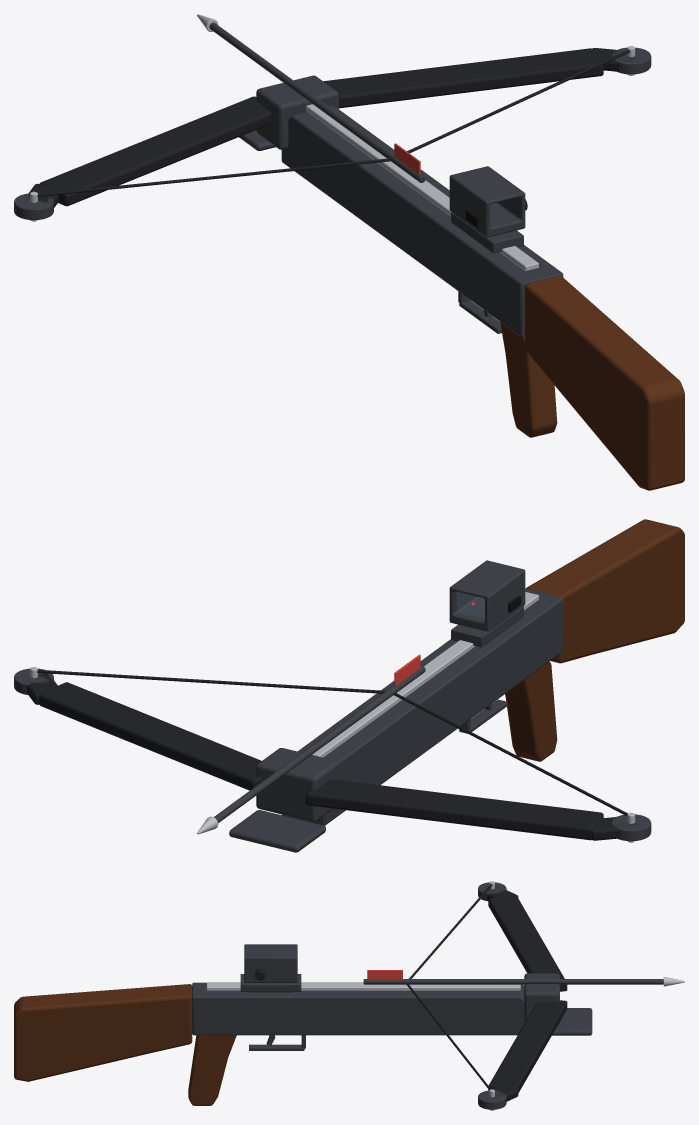
The model's file is quill.glb.
3 renders of one model, top to bottom at view 1: azimuth 30°, elevation 25°; view 2: azimuth 150°, elevation 25°; view 3: azimuth 270°, elevation 25°, orthographic. The views are drawn at different scales.
Visible parts, largest first — view 1: stock, body, limb1, limb-1, optic_hood, grip, riser, flight_rail, bolt_shaft, string_l, optic_base, string_r (+2 smaller); view 2: body, stock, limb-1, limb1, optic_hood, grip, riser, foot_stirrup, flight_rail, bolt_shaft, string_r, optic_base (+5 smaller); view 3: body, stock, limb1, limb-1, grip, optic_hood, flight_rail, bolt_shaft, riser, foot_stirrup, optic_base, cam1 (+2 smaller).
Part boxes in pixels (left/top/right/bottom): stock: left=525, top=276, right=684, bottom=490; body: left=281, top=105, right=563, bottom=336; limb1: left=323, top=48, right=603, bottom=108; limb-1: left=39, top=96, right=271, bottom=206; optic_hood: left=449, top=166, right=525, bottom=237; grip: left=500, top=322, right=557, bottom=437; riser: left=256, top=75, right=338, bottom=149; flight_rail: left=306, top=104, right=538, bottom=271; bolt_shaft: left=209, top=22, right=425, bottom=182; string_l: left=37, top=158, right=390, bottom=196; optic_base: left=451, top=212, right=523, bottom=253; string_r: left=407, top=49, right=629, bottom=153; body: left=281, top=589, right=563, bottom=825; stock: left=525, top=519, right=684, bottom=663; limb-1: left=305, top=779, right=603, bottom=840; limb1: left=39, top=682, right=261, bottom=790; optic_hood: left=449, top=560, right=525, bottom=631; grip: left=505, top=661, right=557, bottom=761; riser: left=256, top=748, right=338, bottom=821; foot_stirrup: left=229, top=810, right=325, bottom=852; flight_rail: left=312, top=592, right=538, bottom=757; bolt_shaft: left=214, top=665, right=425, bottom=823; string_r: left=37, top=669, right=385, bottom=693; optic_base: left=451, top=606, right=523, bottom=647; body: left=192, top=982, right=524, bottom=1035; stock: left=14, top=984, right=192, bottom=1081; limb1: left=488, top=1000, right=567, bottom=1092; limb-1: left=488, top=895, right=567, bottom=991; grip: left=188, top=1035, right=236, bottom=1105; optic_hood: left=244, top=944, right=297, bottom=982; flight_rail: left=206, top=983, right=520, bottom=990; bolt_shaft: left=363, top=979, right=663, bottom=984; riser: left=524, top=973, right=559, bottom=1024; foot_stirrup: left=552, top=1008, right=592, bottom=1035; optic_base: left=240, top=974, right=301, bottom=991; cam1: left=478, top=1090, right=506, bottom=1109.
Bounding box in the file's own units: 0.73 × 0.234 × 0.94.
